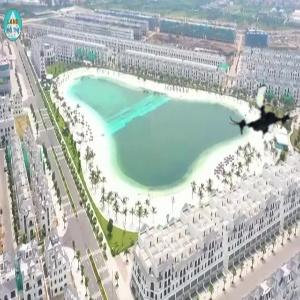drone: (231, 82, 300, 152)
